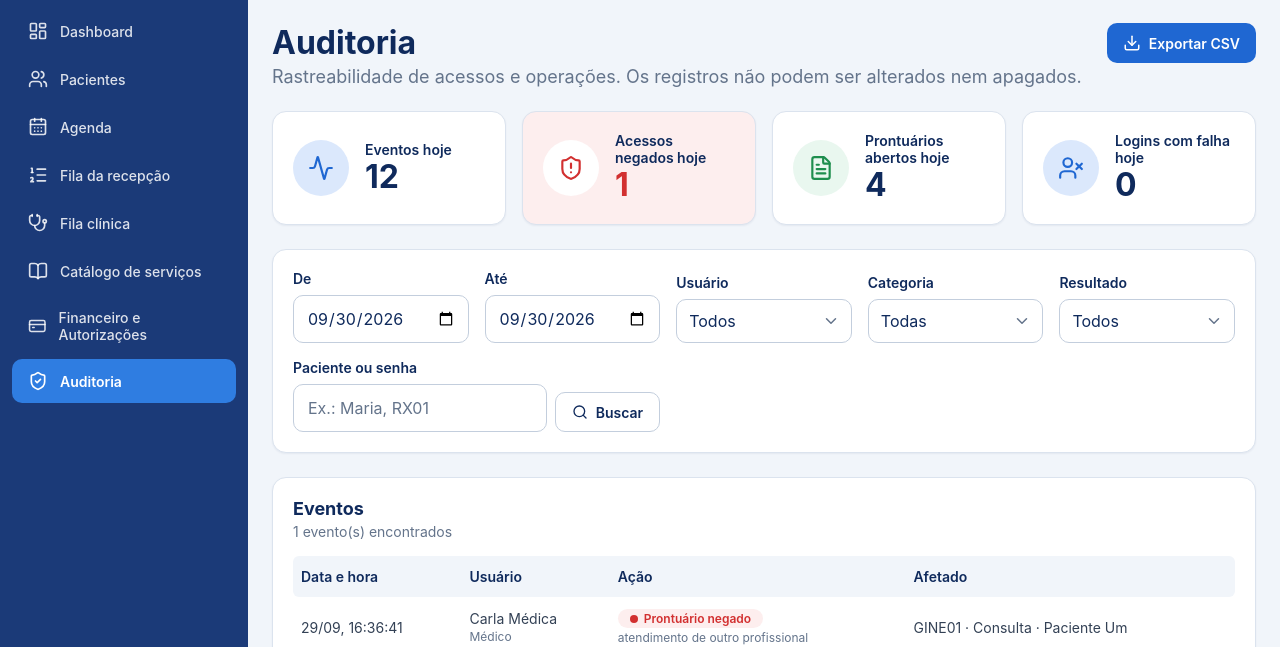
Scenario: AuditPage › lista eventos com negação destacada e abre os detalhes
The width and height of the screenshot is (1280, 647).
Expected: the text "Prontuário negado" is shown, [618, 609, 763, 628]
Expected: the text "atendimento de outro profissional" is shown, [618, 630, 808, 645]
Step 1. Click the button with aria-label "Ver detalhes: Prontuário negado" → (713, 627), box [618, 609, 808, 645]
(page scrolled)
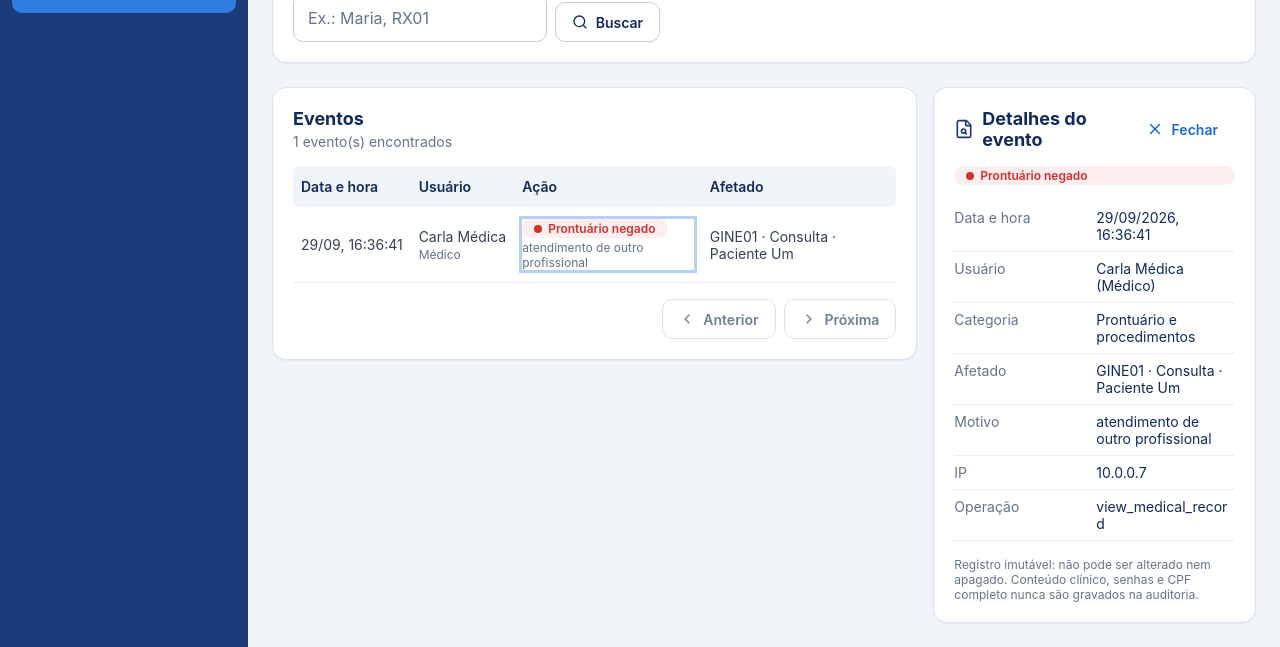
Expected: the heading "Detalhes do evento" is shown, [954, 108, 1087, 150]
Expected: the text "10.0.0.7" is shown, [1096, 464, 1147, 481]
